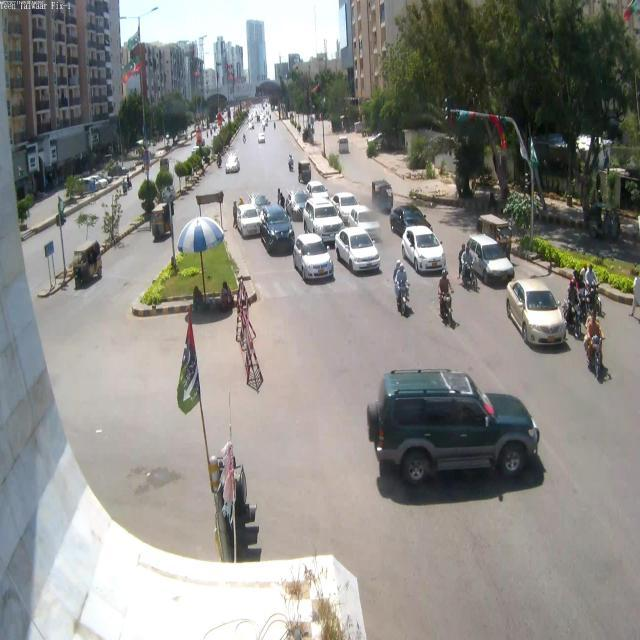car: (370, 369, 542, 490), (506, 277, 571, 351), (460, 235, 517, 291), (334, 224, 381, 273), (292, 234, 337, 284), (402, 228, 447, 276), (259, 203, 296, 254), (302, 200, 344, 243), (349, 205, 385, 245), (389, 204, 430, 238), (281, 188, 311, 222), (234, 205, 263, 239), (332, 191, 361, 221), (304, 180, 331, 207), (224, 155, 241, 176)
motorbike: (392, 258, 411, 320), (438, 270, 457, 328), (287, 152, 296, 177)
